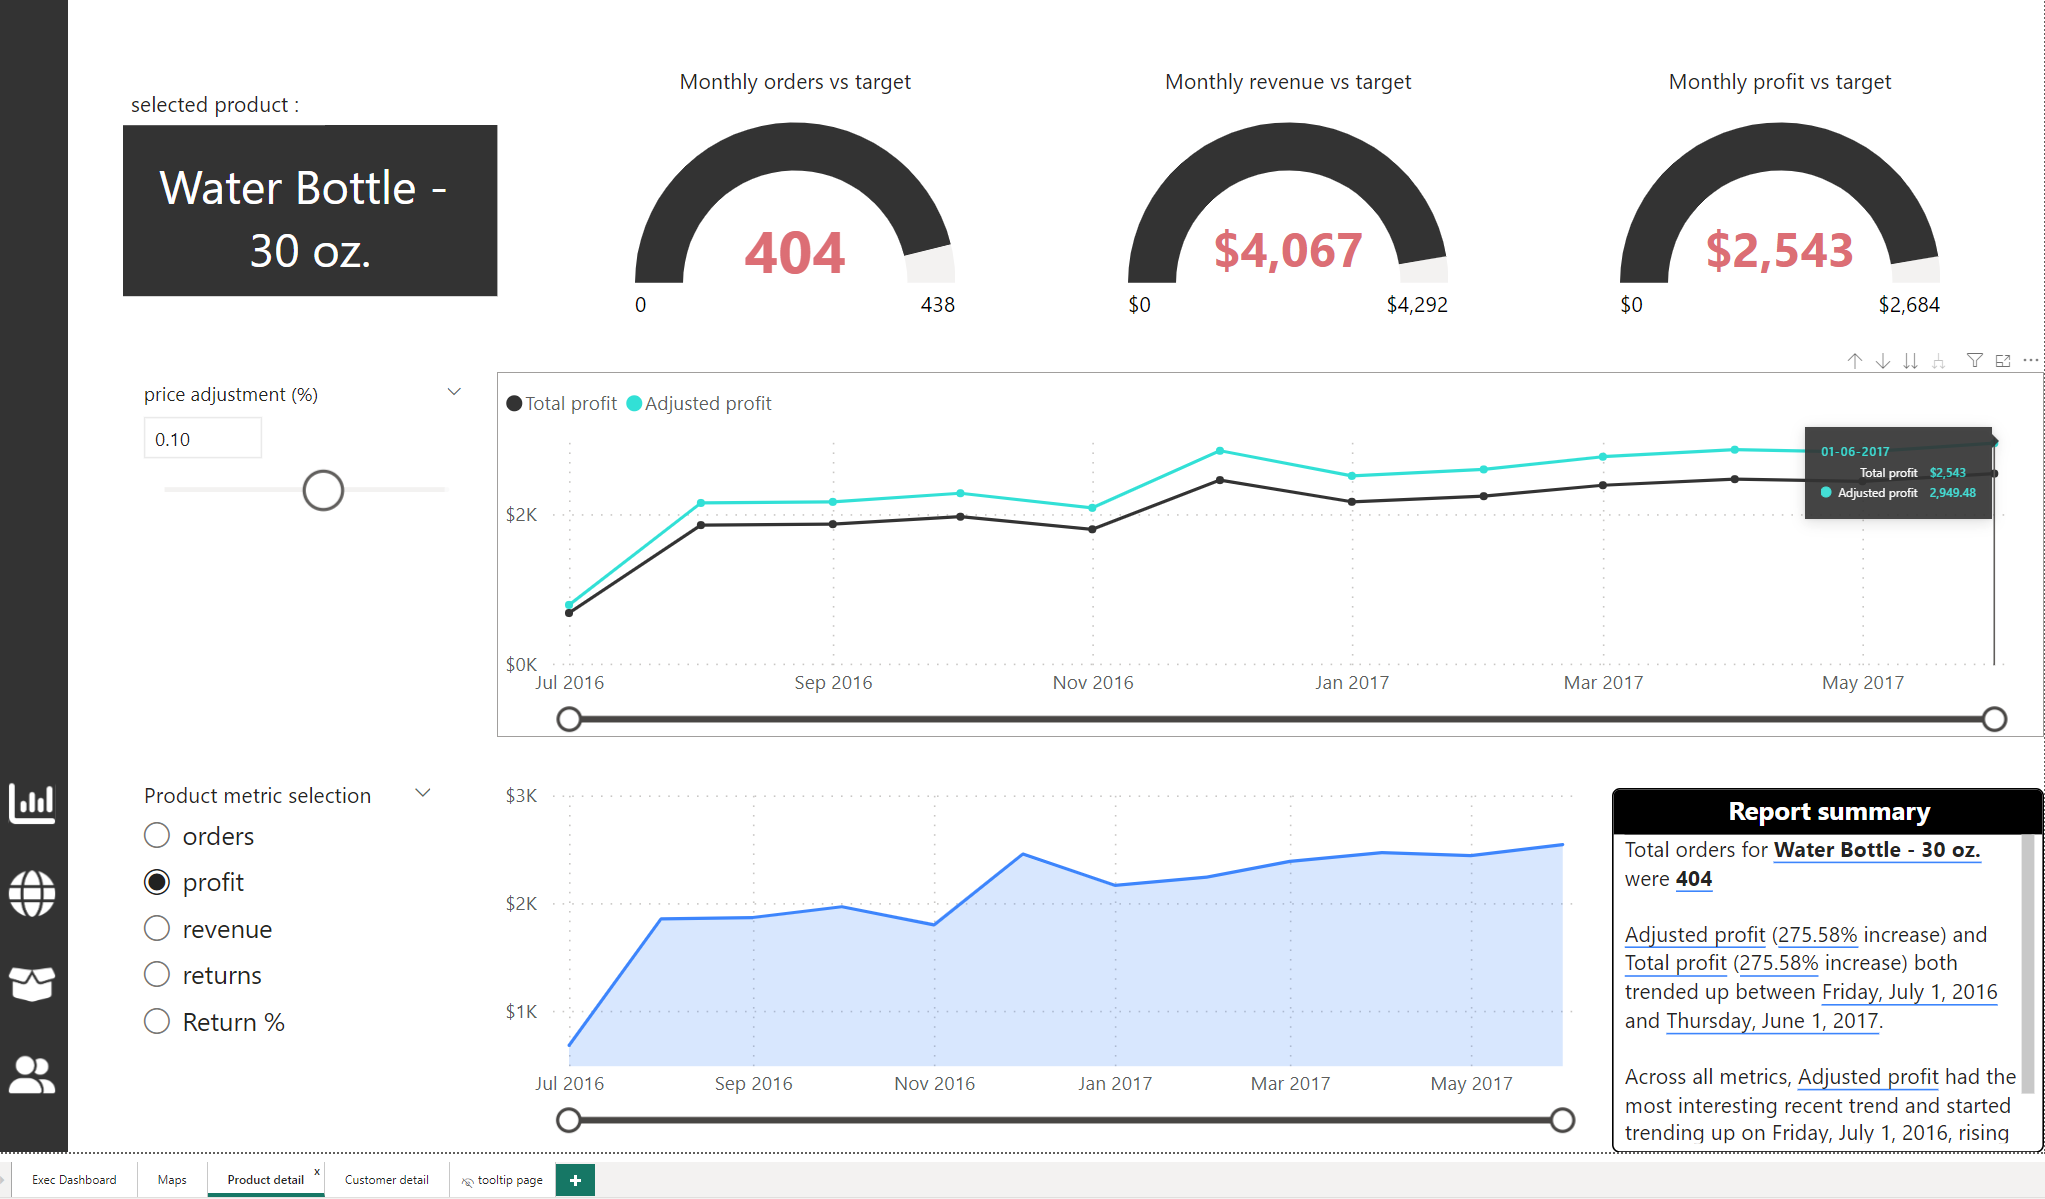

What the dashboard file says about the page in this screenshot:
{"tool":"powerbi","page":{"name":"Product detail","canvas":[1280,720],"ordinal":2},"visuals":[{"type":"shape","box":[0,0,45,720.6],"z":0},{"type":"gauge","title":"Monthly orders vs target","fields":{"Y":["Measure Table.Total orders"],"MaxValue":["Measure Table.Order target"]},"box":[394.6,42.1,210.3,179.4],"z":1000},{"type":"actionButton","box":[0,483.7,45.2,37.1],"z":1000,"group":"g1"},{"type":"gauge","title":"Monthly revenue vs target","fields":{"Y":["Measure Table.Total revenue"],"MaxValue":["Measure Table.target revenue"]},"box":[702.4,42.1,210.3,179.4],"z":2000},{"type":"actionButton","box":[0,596.7,45.2,37.1],"z":2000,"group":"g1"},{"type":"gauge","title":"Monthly profit vs target","fields":{"Y":["Measure Table.Total profit"],"MaxValue":["Measure Table.profit target"]},"box":[1010.1,42.1,210.3,179.4],"z":3000},{"type":"actionButton","box":[0,540.2,45.2,37.1],"z":3000,"group":"g1"},{"type":"lineChart","title":"profit trending","fields":{"Category":["AW_Calendar_lookup.Date Hierarchy.Year","AW_Calendar_lookup.Date Hierarchy.Start of Month","AW_Calendar_lookup.Date Hierarchy.Start of Week","AW_Calendar_lookup.Date Hierarchy.Date"],"Y":["Measure Table.Total profit","Measure Table.Adjusted profit"]},"box":[313,232.6,966.8,228.2],"z":4000},{"type":"actionButton","box":[0,653.2,45.2,37.1],"z":4000,"group":"g1"},{"type":"areaChart","title":"return trending","fields":{"Y":["Measure Table.Total profit"],"Category":["AW_Calendar_lookup.Date Hierarchy.Year","AW_Calendar_lookup.Date Hierarchy.Start of Month","AW_Calendar_lookup.Date Hierarchy.Start of Week","AW_Calendar_lookup.Date Hierarchy.Date"]},"box":[313,483.1,697.1,228.2],"z":5000},{"type":"card","fields":{"Values":["Min(AW_Products_lookup.ProductName)"]},"box":[79.2,77.9,233.8,107],"z":6000},{"type":"textbox","box":[79.2,51.3,125.6,26.6],"z":7000},{"type":"group","id":"g1","title":"page navigation","box":[0,483.7,45.2,206.6],"z":8000},{"type":"slicer","fields":{"Values":["price adjustment (%).price adjustment (%)"]},"box":[79.2,232.6,224.5,105.8],"z":9000},{"type":"slicer","fields":{"Values":["Product metric selection.Product metric selection"]},"box":[79.2,483.1,205.4,182.5],"z":10000},{"type":"textbox","title":"Report summary","box":[1010.1,492.4,269.7,227.6],"z":11000}]}

Visuals, with their boxes on the page's 1280x720 design canvas (x1, y1, x2, y2). These are canvas units, not pixel positions in the 2045x1199 screenshot, which may show the page scaled, cropped or inside an application window:
shape: x1=0 y1=0 x2=45 y2=721
"Monthly orders vs target" gauge: x1=395 y1=42 x2=605 y2=222
actionButton: x1=0 y1=484 x2=45 y2=521
"Monthly revenue vs target" gauge: x1=702 y1=42 x2=913 y2=222
actionButton: x1=0 y1=597 x2=45 y2=634
"Monthly profit vs target" gauge: x1=1010 y1=42 x2=1220 y2=222
actionButton: x1=0 y1=540 x2=45 y2=577
"profit trending" lineChart: x1=313 y1=233 x2=1280 y2=461
actionButton: x1=0 y1=653 x2=45 y2=690
"return trending" areaChart: x1=313 y1=483 x2=1010 y2=711
card - Min(AW_Products_lookup.ProductName): x1=79 y1=78 x2=313 y2=185
textbox: x1=79 y1=51 x2=205 y2=78
"page navigation" group: x1=0 y1=484 x2=45 y2=690
slicer - price adjustment (%).price adjustment (%): x1=79 y1=233 x2=304 y2=338
slicer - Product metric selection.Product metric selection: x1=79 y1=483 x2=285 y2=666
"Report summary" textbox: x1=1010 y1=492 x2=1280 y2=720
